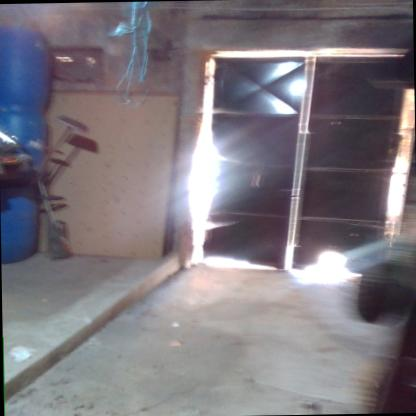closed: (197, 35, 416, 284)
